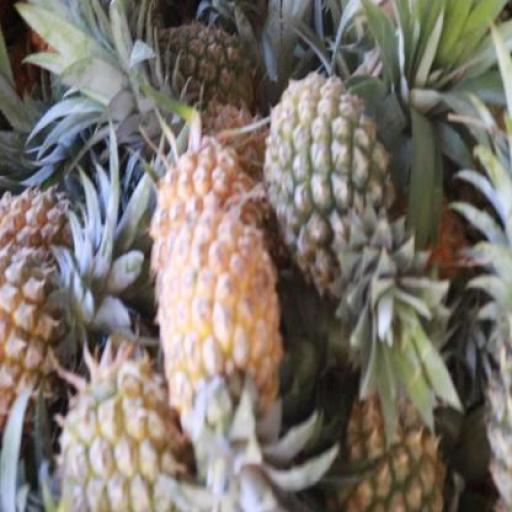------------------------------: (264, 77, 392, 275)
Pineapple - v8 v1: (164, 220, 278, 463)
